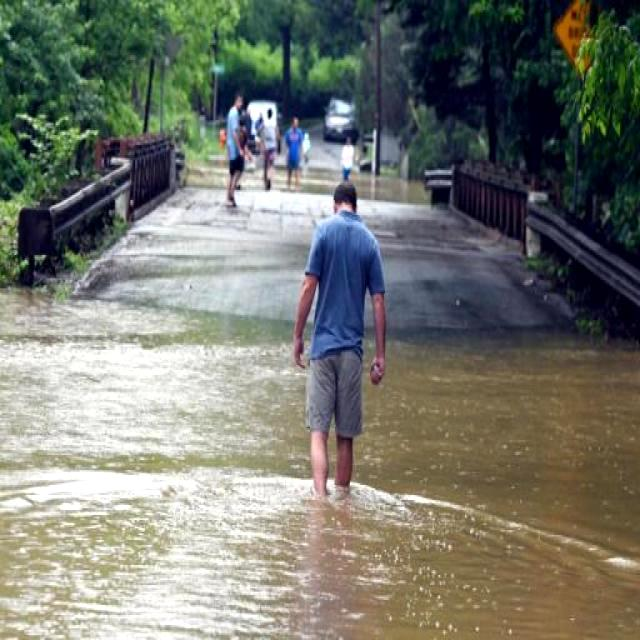civilian: (280, 170, 412, 535), (217, 88, 253, 213), (255, 98, 282, 200), (279, 113, 308, 179), (339, 128, 361, 184)
